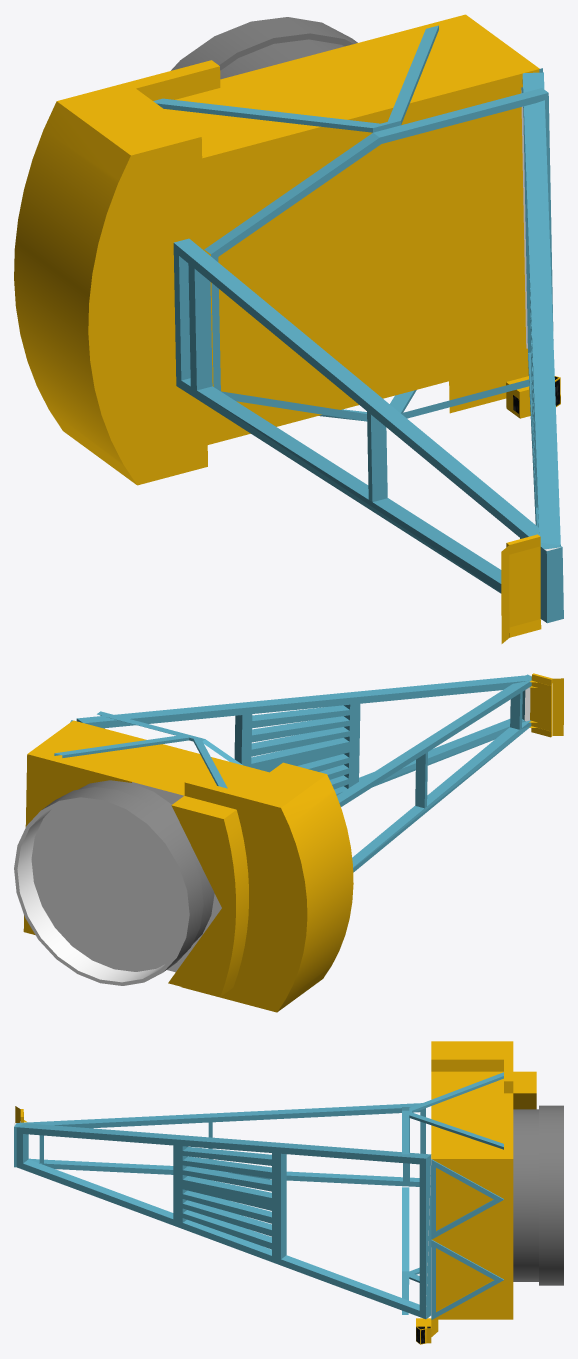
3 renders of one model, top to bottom at view 1: azimuth 30°, elevation 25°; view 2: azimuth 150°, elevation 25°; view 3: azimuth 270°, elevation 25°, orthographic. The views are drawn at different scales.
Parts seen in each view (by area): view 1: _G-Object.001 (Loose Mesh); view 2: _G-Object.001 (Loose Mesh); view 3: _G-Object.001 (Loose Mesh).
Part boxes in pixels (<box>): _G-Object.001 (Loose Mesh): <box>14,14,563,643</box>; _G-Object.001 (Loose Mesh): <box>14,673,563,1012</box>; _G-Object.001 (Loose Mesh): <box>14,1041,563,1344</box>.
Size of the model in its own units: 42.64 by 30.64 by 79.37.
5 materials, 1 textured.
